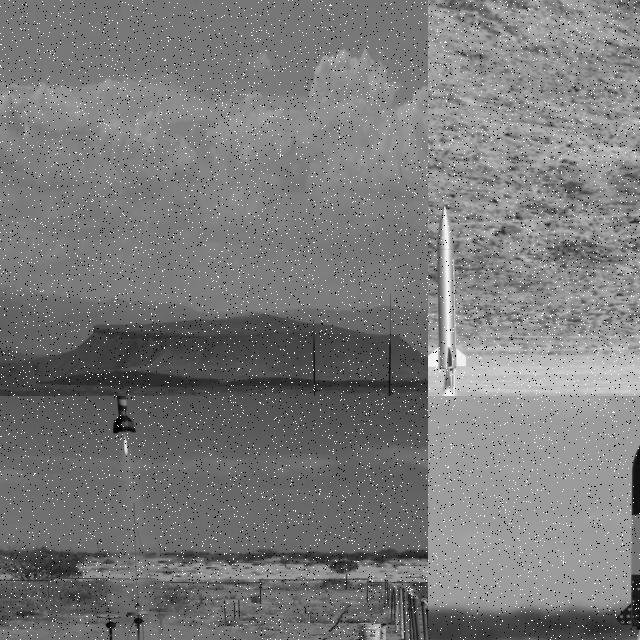Rocket: (428, 205, 466, 370), (614, 439, 640, 629), (112, 396, 136, 433), (312, 317, 318, 393), (386, 338, 392, 396)
